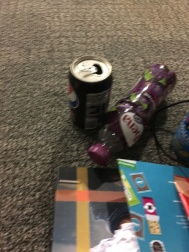bottle_purple: (96, 39, 170, 171)
can_black: (56, 52, 117, 131)
